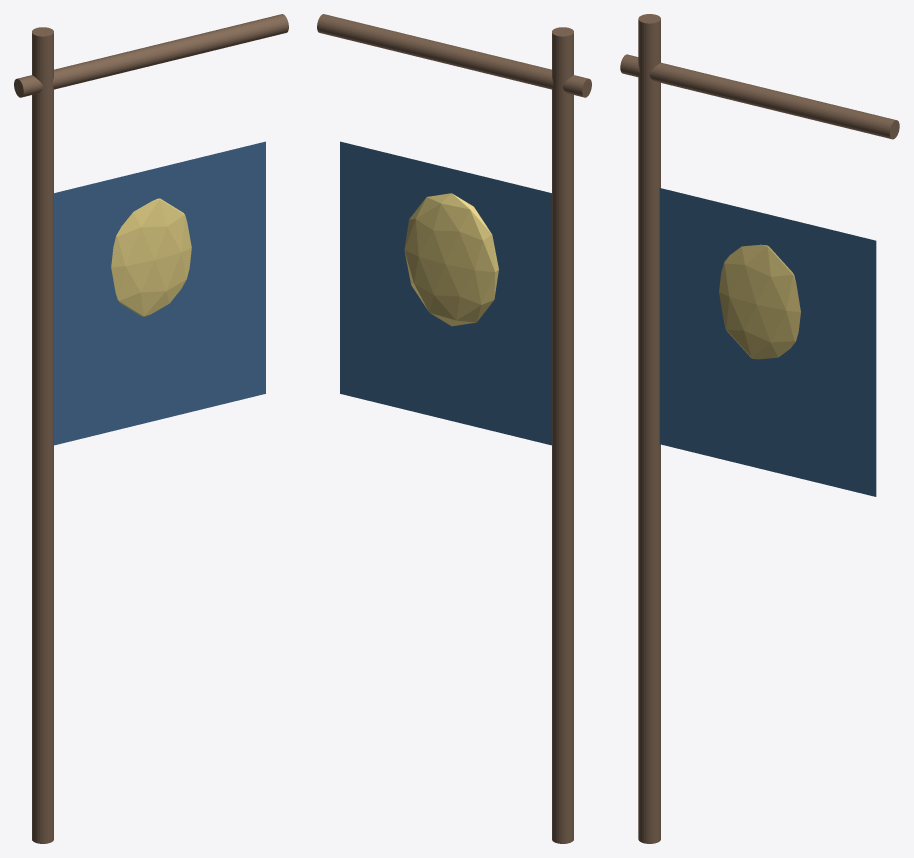
The model's file is dragon_banner.glb.
3 views of the same model, side by side, from view 1: azimuth 30°, elevation 25°; view 2: azimuth 150°, elevation 25°; view 3: azimuth 330°, elevation 25° (orthographic).
Parts seen in each view (by area): view 1: Plane, Cylinder, Icosphere, Cylinder.001; view 2: Plane, Cylinder, Icosphere, Cylinder.001; view 3: Plane, Cylinder, Icosphere, Cylinder.001.
Boxes of the visible parts, bbox=[...] form: Plane: bbox=[54, 141, 265, 445]; Cylinder: bbox=[32, 27, 53, 843]; Icosphere: bbox=[111, 198, 191, 316]; Cylinder.001: bbox=[14, 14, 288, 97]; Plane: bbox=[340, 141, 551, 445]; Cylinder: bbox=[552, 27, 573, 843]; Icosphere: bbox=[404, 193, 498, 326]; Cylinder.001: bbox=[317, 14, 591, 97]; Plane: bbox=[659, 188, 876, 496]; Cylinder: bbox=[638, 14, 660, 843]; Icosphere: bbox=[719, 244, 800, 359]; Cylinder.001: bbox=[620, 54, 899, 139].
Bounding box in the file's own units: 1.1 × 3.2 × 0.104.
